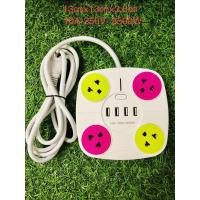Three_eye_plug: (75, 64, 170, 161)
